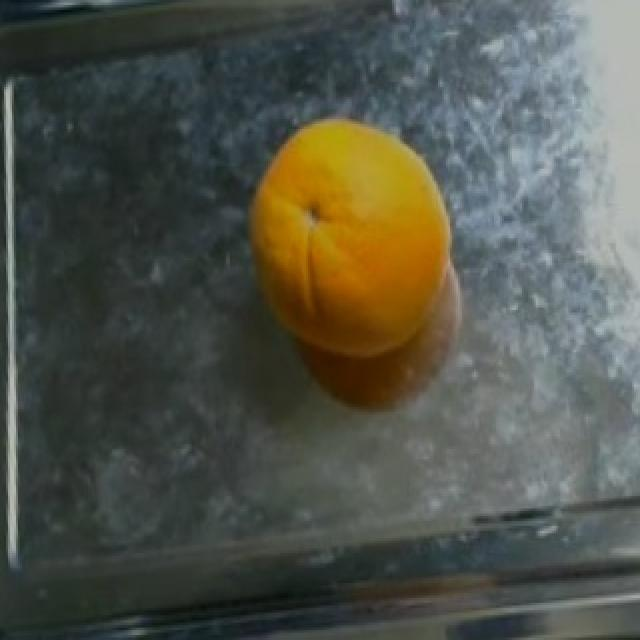Fruit: (234, 94, 482, 412)
